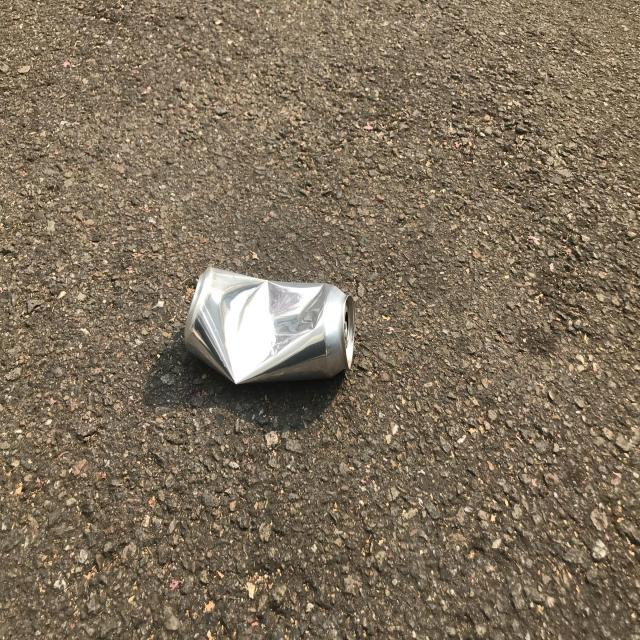can: (184, 267, 355, 384)
